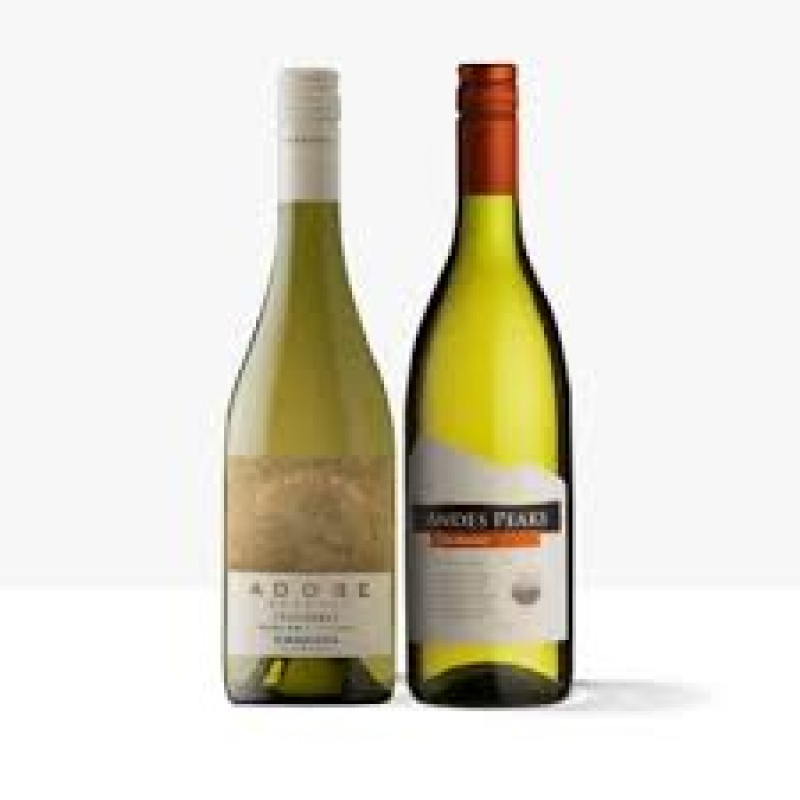wine: (227, 70, 398, 707), (404, 65, 566, 702)
